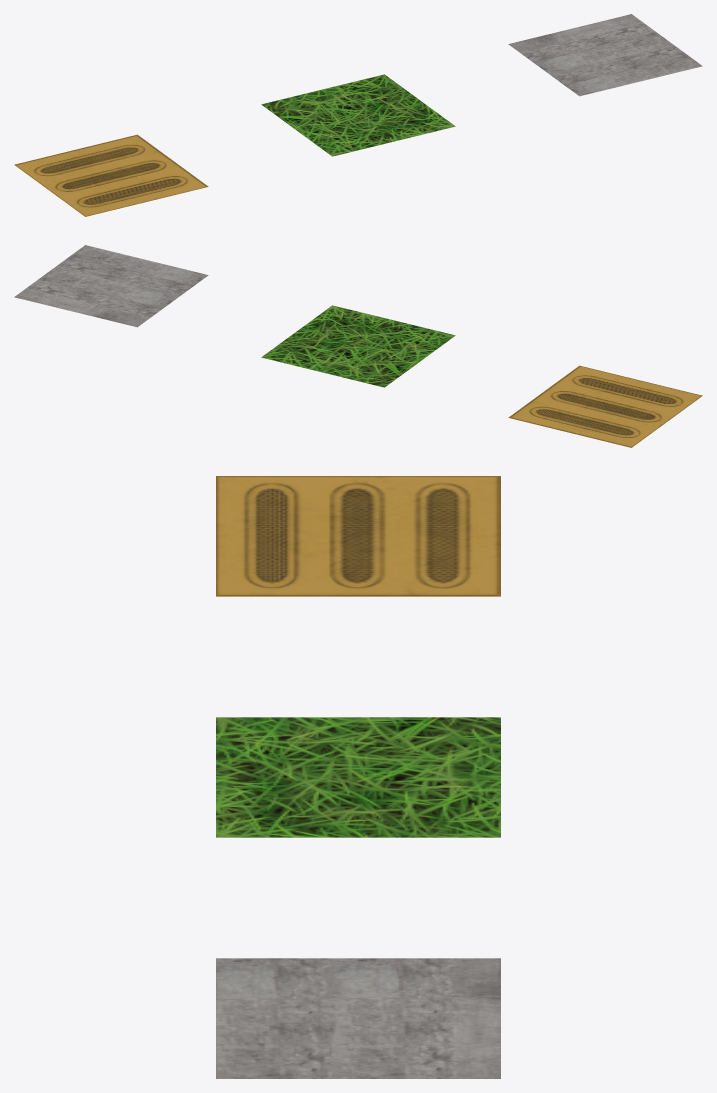
The model's file is tileset.glb.
3 views of the same model, one above another, from view 1: azimuth 30°, elevation 25°; view 2: azimuth 150°, elevation 25°; view 3: azimuth 270°, elevation 25° (orthographic). The views are drawn at different scales.
Parts seen in each view (by area): view 1: banqueta-col, tactil-col, pasto-col; view 2: banqueta-col, tactil-col, pasto-col; view 3: pasto-col, banqueta-col, tactil-col.
Boxes of the visible parts, x1=… form: banqueta-col: x1=508, y1=14, x2=702, y2=96; tactil-col: x1=14, y1=134, x2=208, y2=216; pasto-col: x1=261, y1=74, x2=455, y2=156; banqueta-col: x1=14, y1=245, x2=208, y2=327; tactil-col: x1=508, y1=365, x2=702, y2=447; pasto-col: x1=261, y1=305, x2=455, y2=387; pasto-col: x1=216, y1=717, x2=500, y2=837; banqueta-col: x1=216, y1=958, x2=500, y2=1078; tactil-col: x1=216, y1=476, x2=500, y2=596.
Bounding box in the file's own units: 5 × 0 × 1.
Materials: 3 (3 with a texture image).
